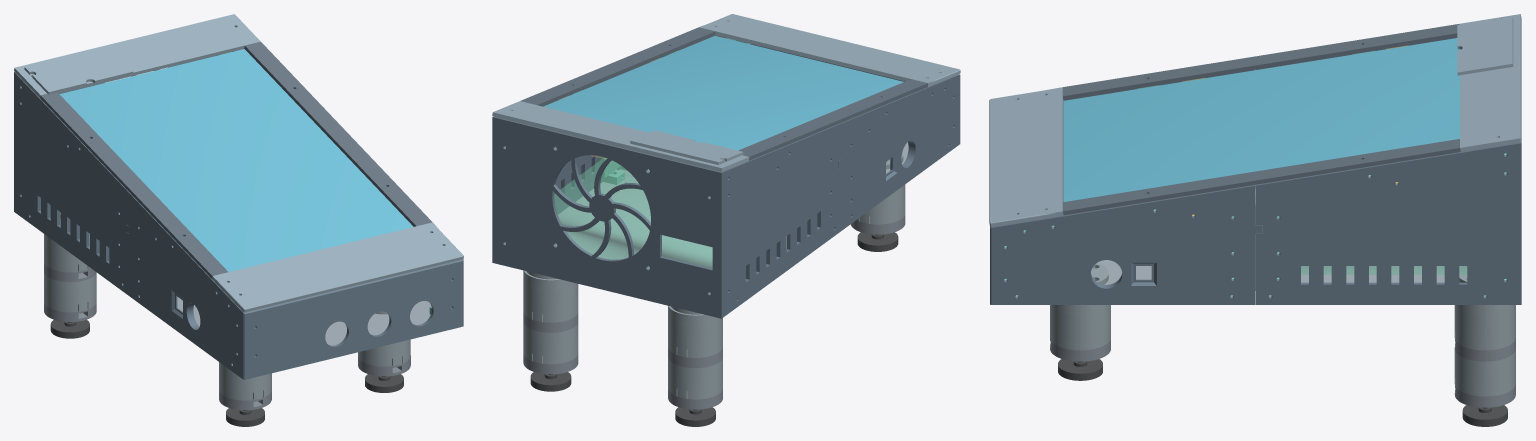
The model's file is cabinet.glb.
3 views of the same model, side by side, from view 1: azimuth 30°, elevation 25°; view 2: azimuth 150°, elevation 25°; view 3: azimuth 270°, elevation 25° (orthographic). The views are drawn at different scales.
Visible parts, largest first — view 1: REFERENCE_Monitor, left_rear_wall, front_button_panel, left_front_wall, front_cable_lid, rear_control_deck, bezel_right_a1_a2, bezel_left_one_piece, control_hatch, foot_lock_sleeve_left_rear_2_45mm, bottom_front, foot_lock_sleeve_left_front_1_45mm (+9 smaller); view 2: rear_vent_panel, REFERENCE_Monitor, left_rear_wall, left_front_wall, front_cable_lid, REFERENCE_Dell_3050, bottom_rear, rear_control_deck, bezel_right_a1_a2, bezel_left_one_piece, right_rear_wall, control_hatch (+15 smaller); view 3: REFERENCE_Monitor, right_rear_wall, right_front_wall, front_cable_lid, bezel_right_a1_a2, bezel_left_one_piece, rear_control_deck, control_hatch, foot_lock_sleeve_right_rear_2_45mm, foot_lock_sleeve_right_rear_1_45mm, foot_lock_sleeve_right_front_1_45mm, bottom_rear (+9 smaller).
Part boxes in pixels (left/top/right/bottom): REFERENCE_Monitor: left=59, top=49, right=413, bottom=271; left_rear_wall: left=14, top=71, right=129, bottom=295; front_button_panel: left=247, top=260, right=460, bottom=379; left_front_wall: left=126, top=192, right=247, bottom=379; front_cable_lid: left=212, top=222, right=463, bottom=312; rear_control_deck: left=14, top=14, right=260, bottom=97; bezel_right_a1_a2: left=244, top=41, right=432, bottom=226; bezel_left_one_piece: left=40, top=92, right=228, bottom=278; control_hatch: left=24, top=46, right=133, bottom=94; foot_lock_sleeve_left_rear_2_45mm: left=44, top=272, right=96, bottom=312; bottom_front: left=177, top=297, right=431, bottom=345; foot_lock_sleeve_left_front_1_45mm: left=219, top=362, right=271, bottom=400; rear_vent_panel: left=495, top=117, right=718, bottom=317; REFERENCE_Monitor: left=543, top=36, right=903, bottom=150; left_rear_wall: left=718, top=123, right=841, bottom=318; left_front_wall: left=838, top=74, right=960, bottom=230; front_cable_lid: left=699, top=14, right=960, bottom=86; REFERENCE_Dell_3050: left=554, top=157, right=712, bottom=268; bottom_rear: left=558, top=175, right=786, bottom=268; rear_control_deck: left=492, top=101, right=749, bottom=171; bezel_right_a1_a2: left=520, top=27, right=715, bottom=106; bezel_left_one_piece: left=738, top=79, right=928, bottom=160; right_rear_wall: left=492, top=77, right=614, bottom=263; control_hatch: left=630, top=130, right=743, bottom=164; REFERENCE_Monitor: left=1063, top=38, right=1459, bottom=201; right_rear_wall: left=1256, top=142, right=1521, bottom=304; right_front_wall: left=990, top=185, right=1262, bottom=304; front_cable_lid: left=989, top=87, right=1063, bottom=226; bezel_right_a1_a2: left=1062, top=139, right=1460, bottom=215; bezel_left_one_piece: left=1062, top=23, right=1459, bottom=100; rear_control_deck: left=1460, top=14, right=1521, bottom=151; control_hatch: left=1457, top=16, right=1513, bottom=75; foot_lock_sleeve_right_rear_2_45mm: left=1454, top=349, right=1515, bottom=396; foot_lock_sleeve_right_rear_1_45mm: left=1454, top=305, right=1515, bottom=350; foot_lock_sleeve_right_front_1_45mm: left=1050, top=305, right=1110, bottom=350; bottom_rear: left=1301, top=266, right=1461, bottom=282.
Bounding box in the file's own units: 0.26 × 0.2966 × 0.4705.
